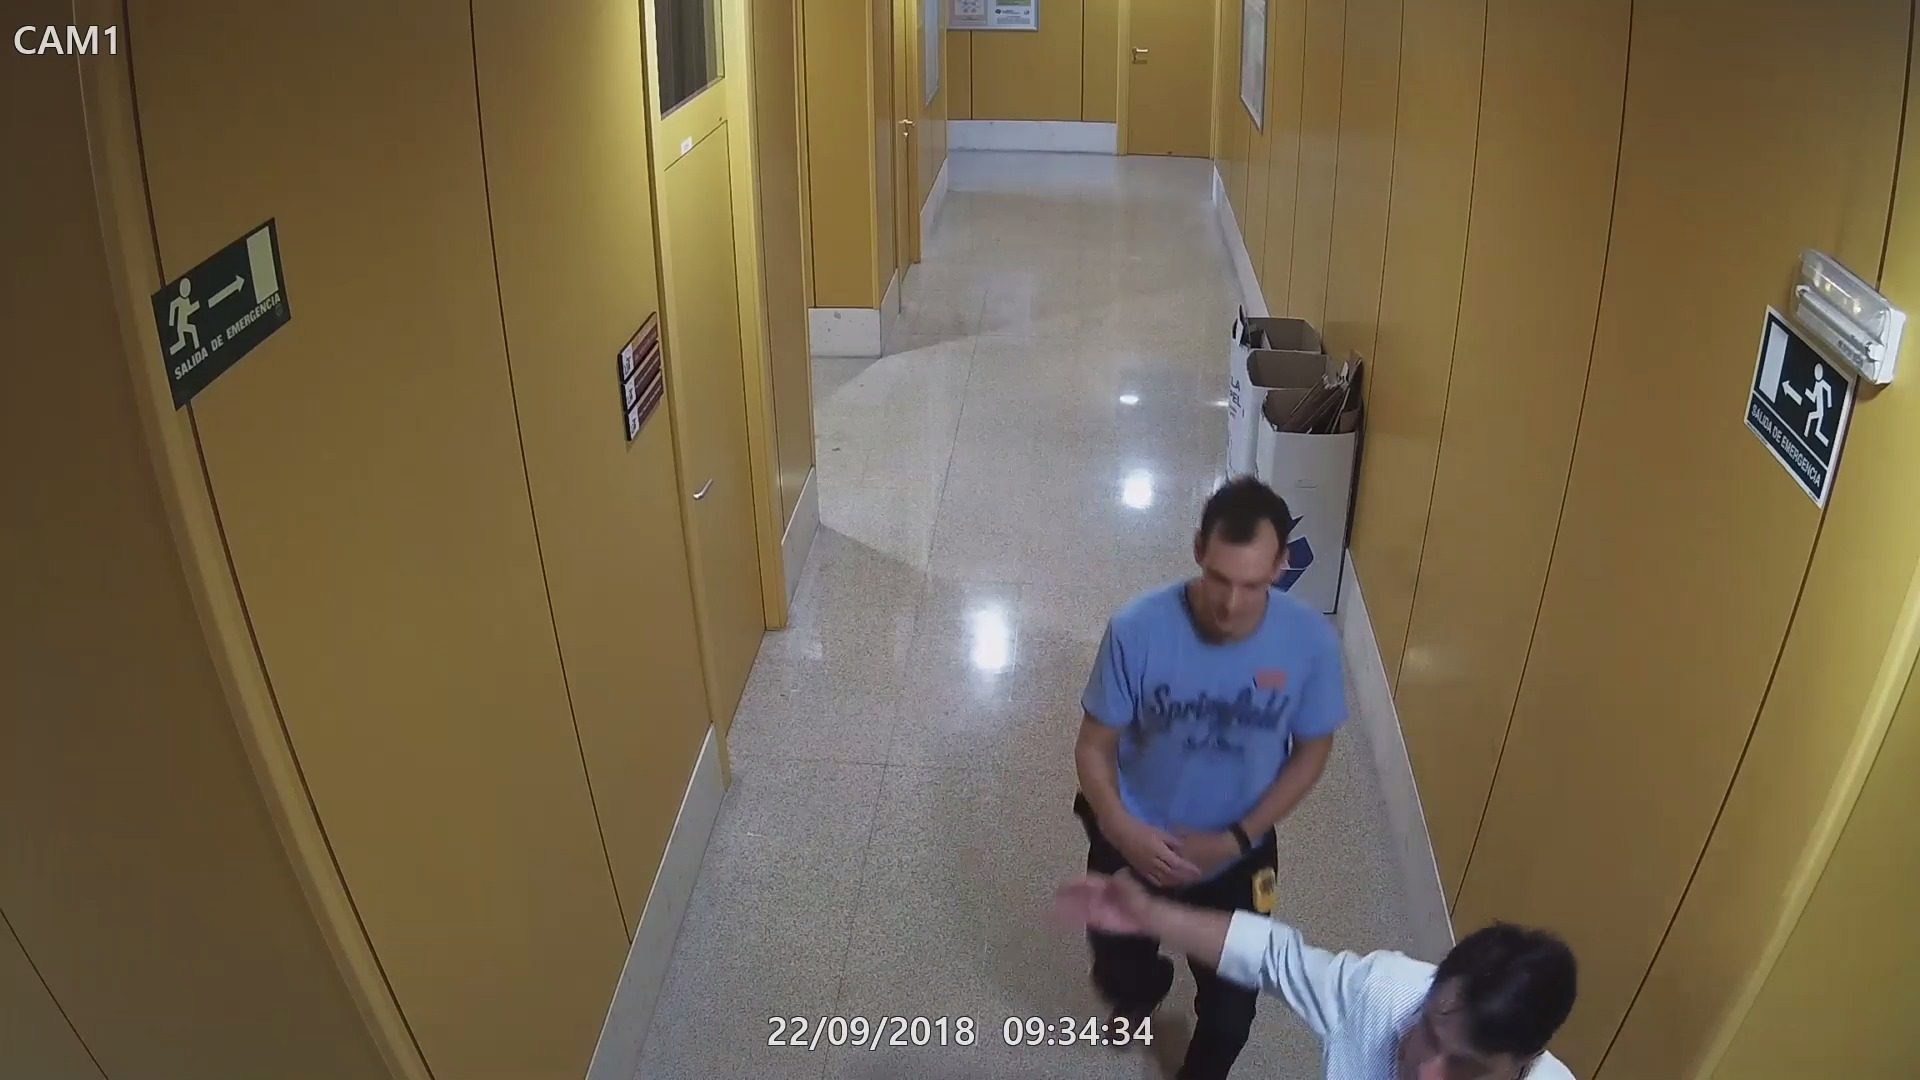Handgun: (1058, 782, 1106, 847)
